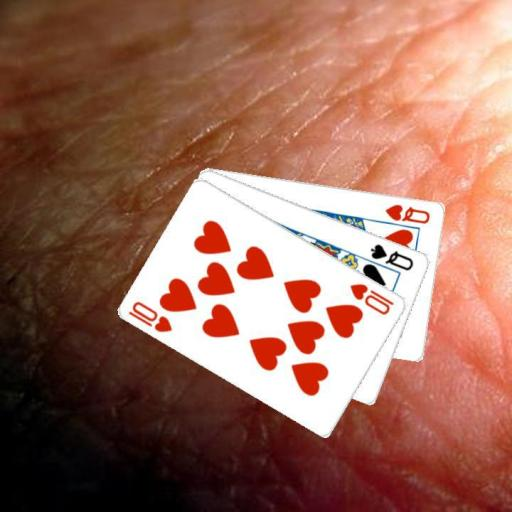10H: (347, 280, 395, 317), (126, 297, 174, 334)
QH: (383, 201, 433, 225)
QS: (368, 241, 415, 273)
